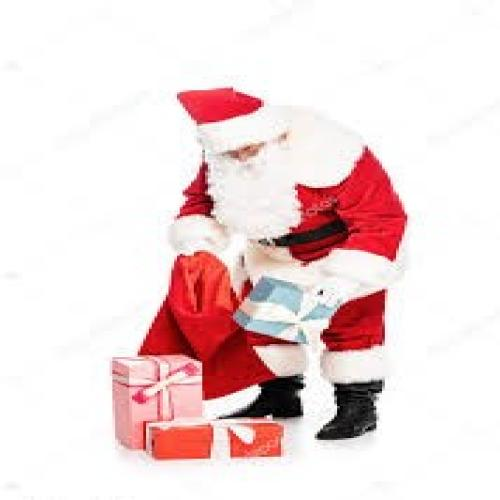Santa: (173, 86, 408, 442)
